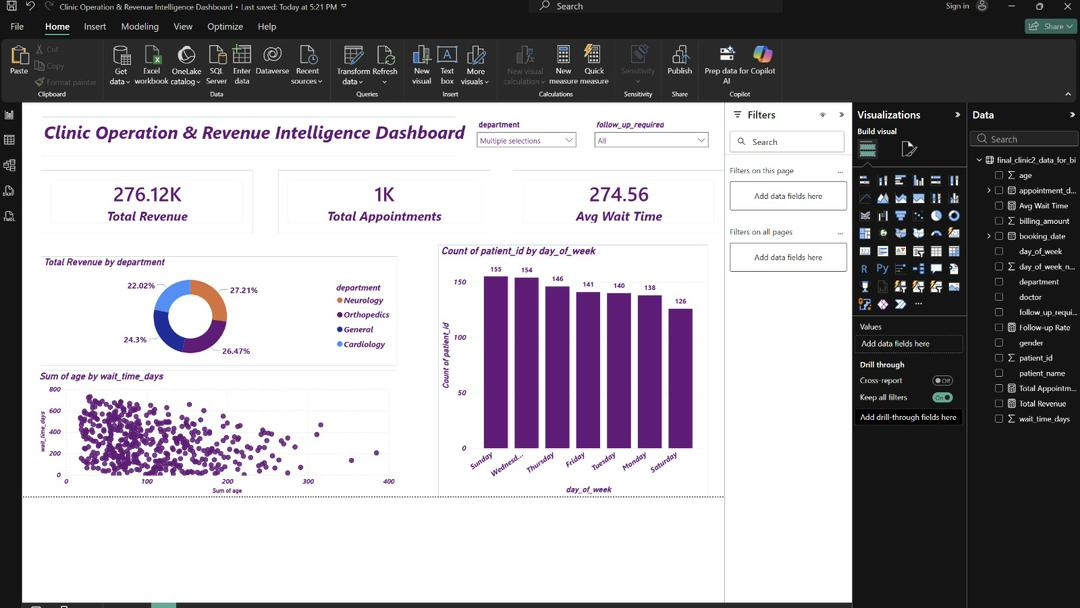

This screenshot's page, from the dashboard's own definition file:
{"tool":"powerbi","page":{"name":"Page 1","canvas":[1280,720],"ordinal":0},"visuals":[{"type":"shape","box":[34.8,26.7,754.3,71.8],"z":0},{"type":"shape","box":[34.8,124,385.9,114.7],"z":1},{"type":"shape","box":[467,124,385.9,114.7],"z":2},{"type":"shape","box":[894.5,124,385.9,114.7],"z":3},{"type":"shape","box":[34.8,281.6,648.9,199.3],"z":4},{"type":"shape","box":[34.8,490.1,648.9,229.4],"z":5},{"type":"shape","box":[759,260.7,491.3,458.9],"z":6},{"type":"textbox","box":[34.8,26.7,793.7,71.8],"z":7},{"type":"cardVisual","fields":{"Data":["final_clinic2_data_for_bi.Total Revenue"]},"box":[34.8,124,385.9,114.7],"z":8},{"type":"cardVisual","fields":{"Data":["final_clinic2_data_for_bi.Total Appointments"]},"box":[467,124,385.9,114.7],"z":9},{"type":"cardVisual","fields":{"Data":["final_clinic2_data_for_bi.Avg Wait Time"]},"box":[894.5,124,385.9,114.7],"z":10},{"type":"columnChart","fields":{"Category":["final_clinic2_data_for_bi.day_of_week"],"Y":["CountNonNull(final_clinic2_data_for_bi.patient_id)"]},"box":[759,260.7,491.3,458.9],"z":12},{"type":"scatterChart","fields":{"X":["Sum(final_clinic2_data_for_bi.age)"],"Y":["final_clinic2_data_for_bi.wait_time_days"]},"box":[26.7,490.1,657,229.4],"z":13},{"type":"slicer","fields":{"Values":["final_clinic2_data_for_bi.department"]},"box":[819.2,26.7,200.5,61.4],"z":14},{"type":"donutChart","fields":{"Category":["final_clinic2_data_for_bi.department"],"Y":["final_clinic2_data_for_bi.Total Revenue"]},"box":[34.8,281.6,648.9,199.3],"z":15},{"type":"slicer","fields":{"Values":["final_clinic2_data_for_bi.follow_up_required"]},"box":[1033.6,26.7,227.1,57.9],"z":16}]}

Visuals, with their boxes in screenshot pixels (x1, y1, x2, y2):
shape: <box>19,44,625,102</box>
shape: <box>19,122,329,214</box>
shape: <box>366,122,676,214</box>
shape: <box>709,122,1019,214</box>
shape: <box>19,249,540,408</box>
shape: <box>19,416,540,600</box>
shape: <box>601,232,995,600</box>
textbox: <box>19,44,657,102</box>
cardVisual - final_clinic2_data_for_bi.Total Revenue: <box>19,122,329,214</box>
cardVisual - final_clinic2_data_for_bi.Total Appointments: <box>366,122,676,214</box>
cardVisual - final_clinic2_data_for_bi.Avg Wait Time: <box>709,122,1019,214</box>
columnChart - final_clinic2_data_for_bi.day_of_week x CountNonNull(final_clinic2_data_for_bi.patient_id): <box>601,232,995,600</box>
scatterChart - Sum(final_clinic2_data_for_bi.age) x final_clinic2_data_for_bi.wait_time_days: <box>13,416,540,600</box>
slicer - final_clinic2_data_for_bi.department: <box>649,44,810,93</box>
donutChart - final_clinic2_data_for_bi.department x final_clinic2_data_for_bi.Total Revenue: <box>19,249,540,408</box>
slicer - final_clinic2_data_for_bi.follow_up_required: <box>821,44,1003,90</box>
